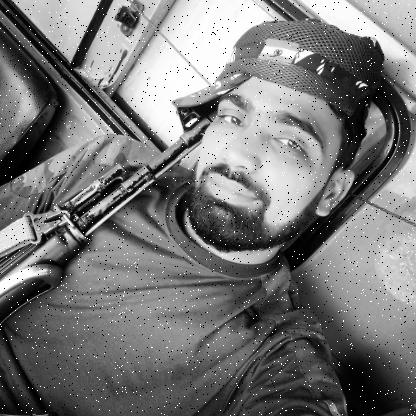rifle: (1, 105, 214, 325)
